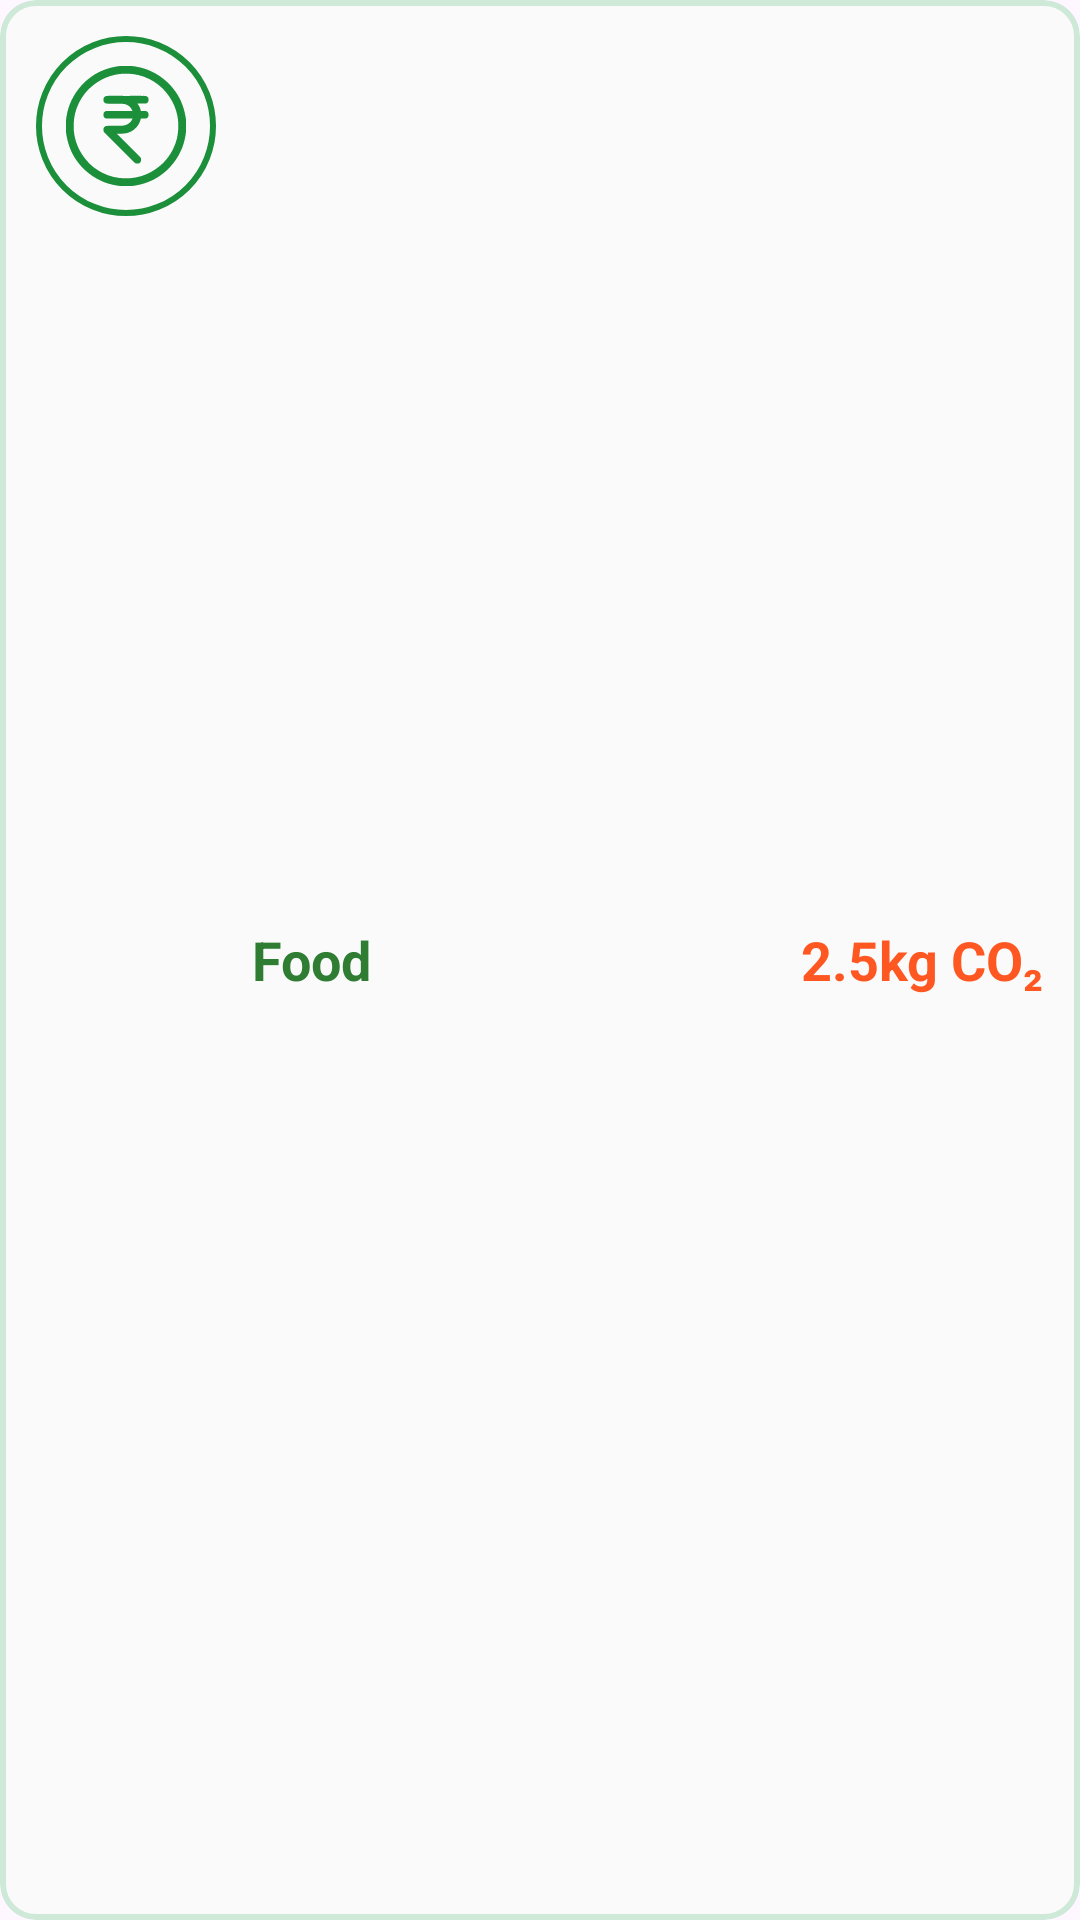

Where icons sit on this 1080w x 1920h app screen, as (x1, y1, x2, y2):
rupee list: (36, 36, 216, 216)
